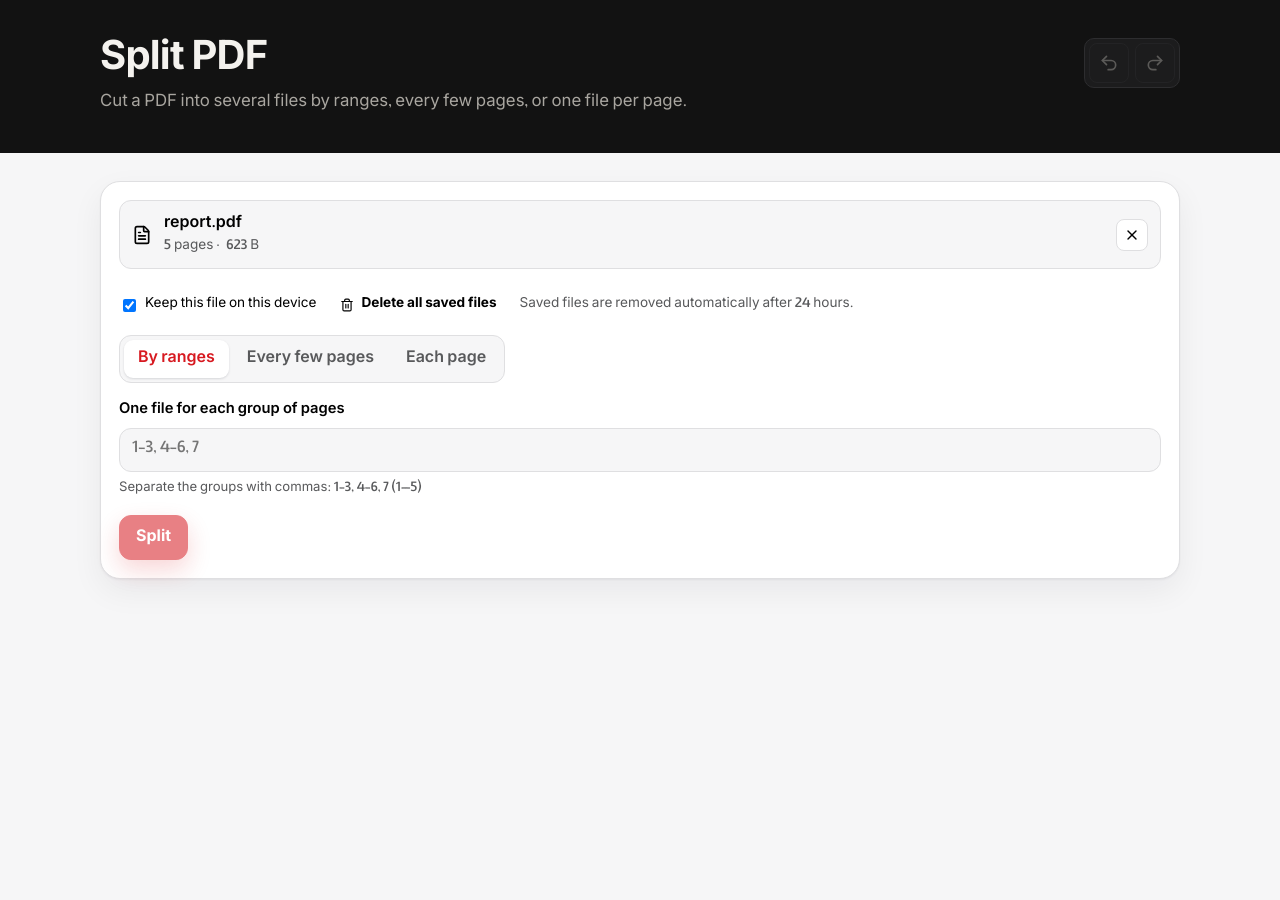
Test: page tools › splits into a ZIP of several files
The width and height of the screenshot is (1280, 900).
Earlier steps of the test are not shown.
Later steps or results of the test are not shown.
Expected: the text "5 pages · 623 B" is shown, [164,236,259,258]
Type "1-2, 5" into the field with placeholder "1-3, 4-6, 7" at (640, 450), box [119,428,1161,472]
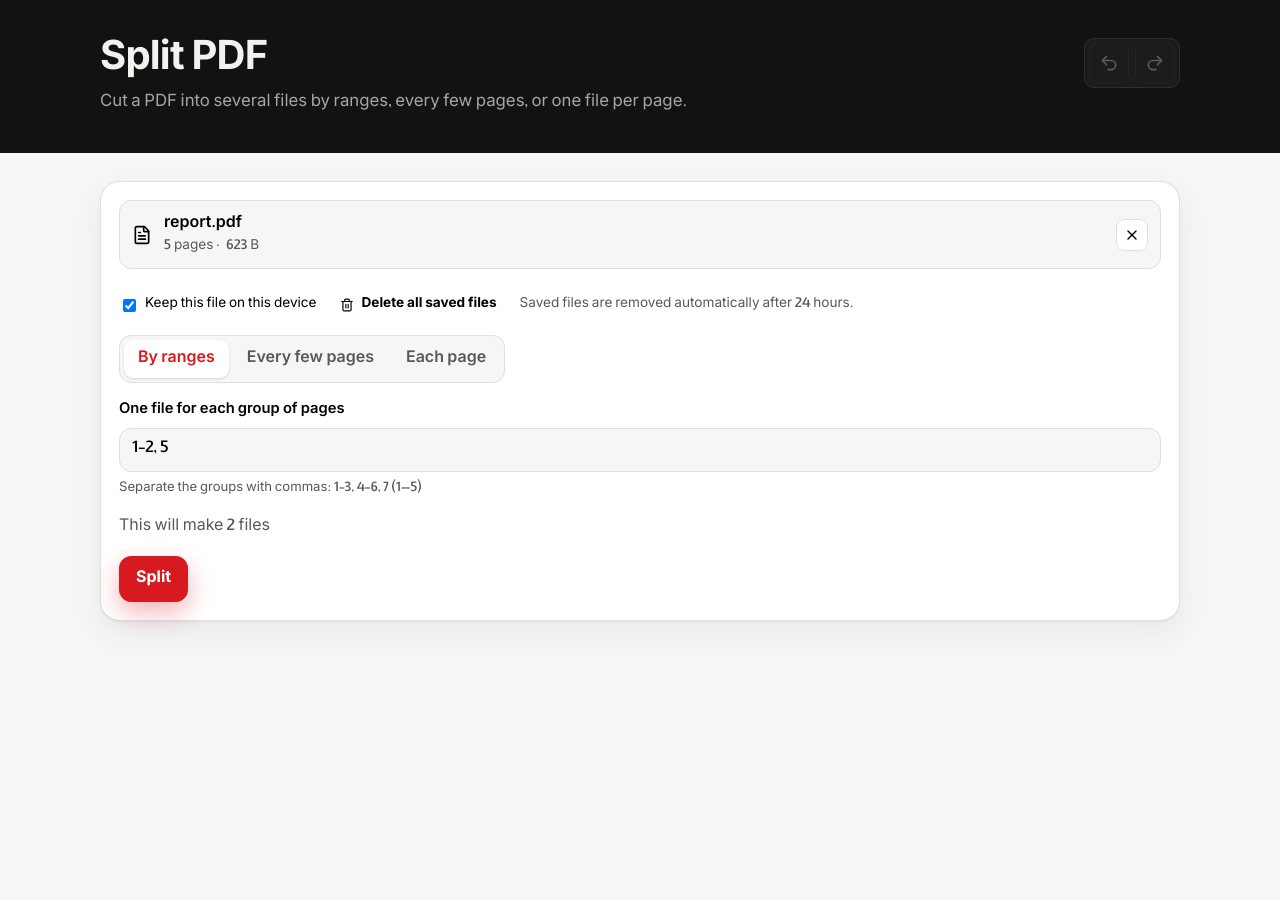
Expected: the text "This will make 2 files" is shown, [119,515,270,539]
